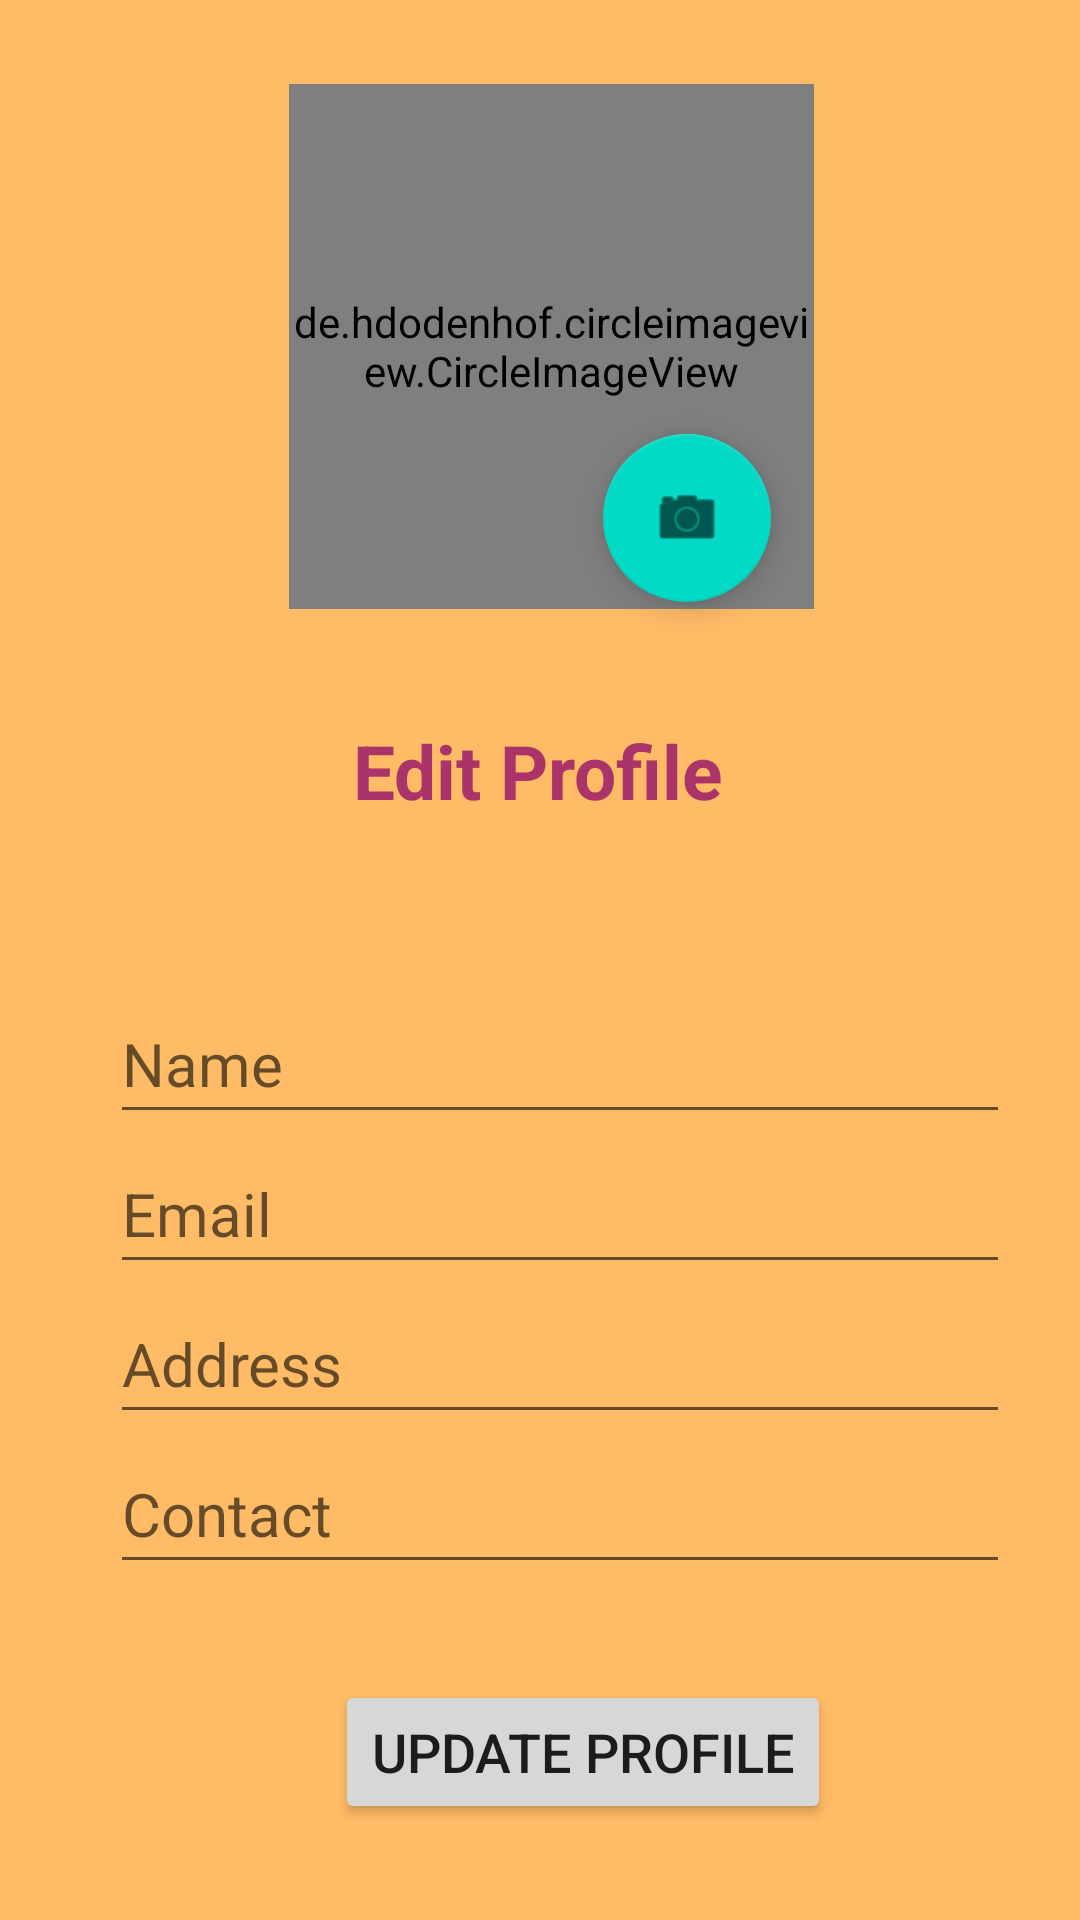

Icons on this 1080×1920 Android screen, each with its box as (x1, y1, x2, y2):
camera: (603, 434, 771, 602)
